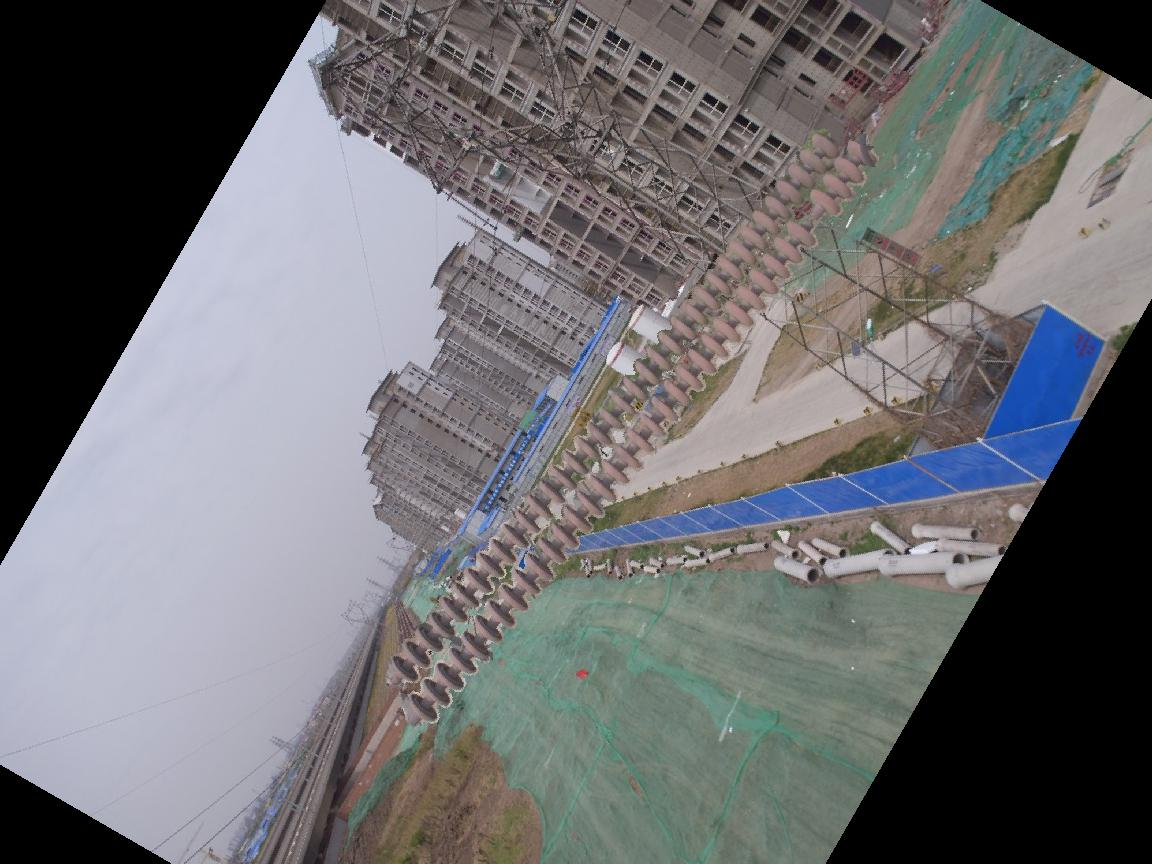insulator: (383, 128, 883, 734)
insulator_stringdrop: (784, 184, 845, 250)
